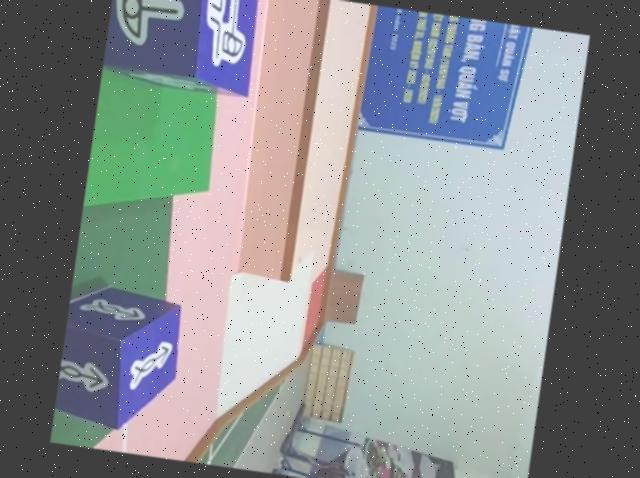R2 Real Blue: (53, 278, 190, 436), (101, 0, 264, 102)
